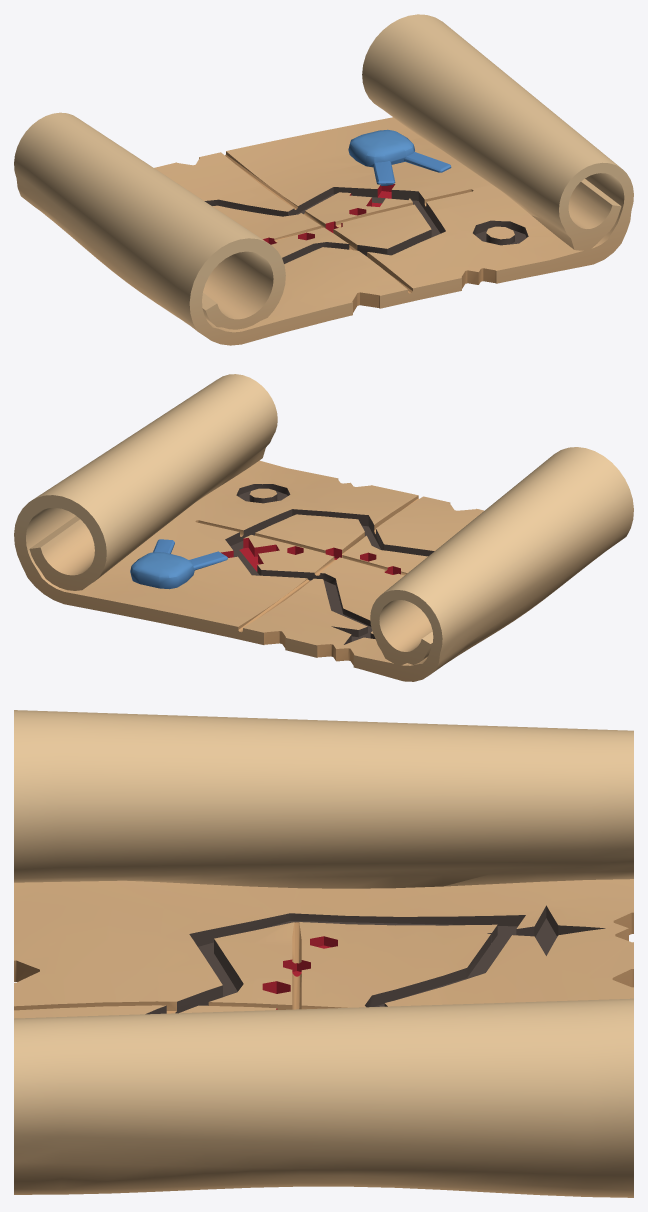
File: war_map.glb
3 views of the same model, one above another, from view 1: azimuth 30°, elevation 25°; view 2: azimuth 150°, elevation 25°; view 3: azimuth 270°, elevation 25° (orthographic). The views are drawn at different scales.
Visible parts, largest first — view 1: war_map; view 2: war_map; view 3: war_map.
Boxes of the visible parts, left/top/right/bottom form: war_map: left=14, top=14, right=633, bottom=345; war_map: left=14, top=374, right=633, bottom=681; war_map: left=14, top=710, right=633, bottom=1197.
Size of the model in its own units: 1.29 by 0.3022 by 0.92.
1 material, 1 textured.
